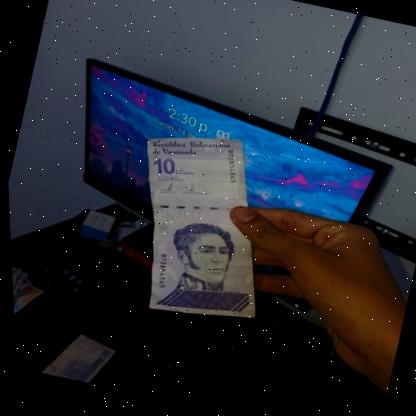vef_front: (102, 116, 295, 338)
